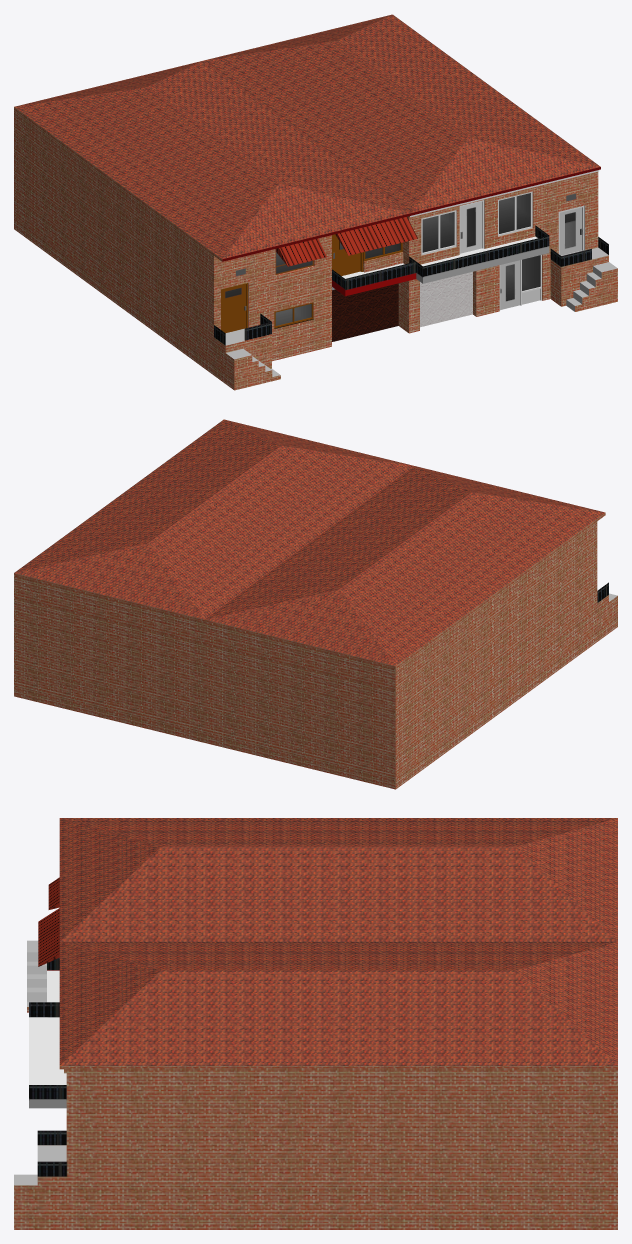
The model's file is Residential House 04.fbx.
3 renders of one model, top to bottom at view 1: azimuth 30°, elevation 25°; view 2: azimuth 150°, elevation 25°; view 3: azimuth 270°, elevation 25°, orthographic. The views are drawn at different scales.
Visible parts, largest first — view 1: Residential House 04; view 2: Residential House 04; view 3: Residential House 04.
Part boxes in pixels (x1=…): Residential House 04: x1=14, y1=14, x2=617, y2=390; Residential House 04: x1=14, y1=419, x2=617, y2=789; Residential House 04: x1=14, y1=818, x2=617, y2=1229.
Size of the model in its own units: 1704 by 633 by 1756.
1 material, 1 textured.
